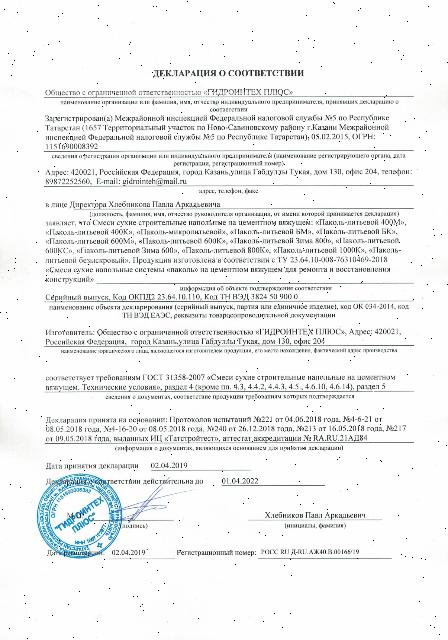stamp: (38, 474, 122, 562)
